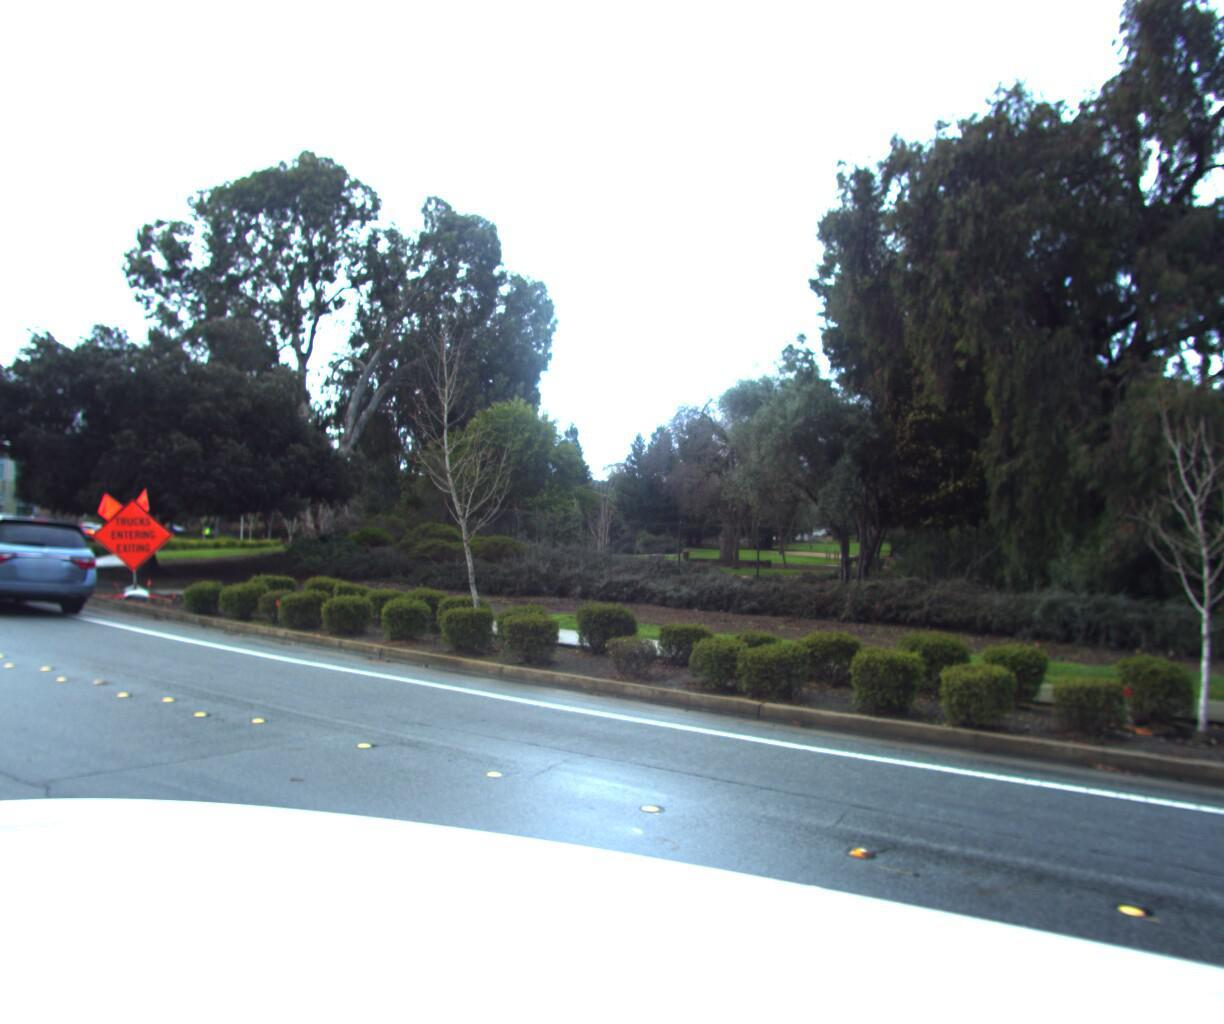car: (0, 514, 104, 623)
